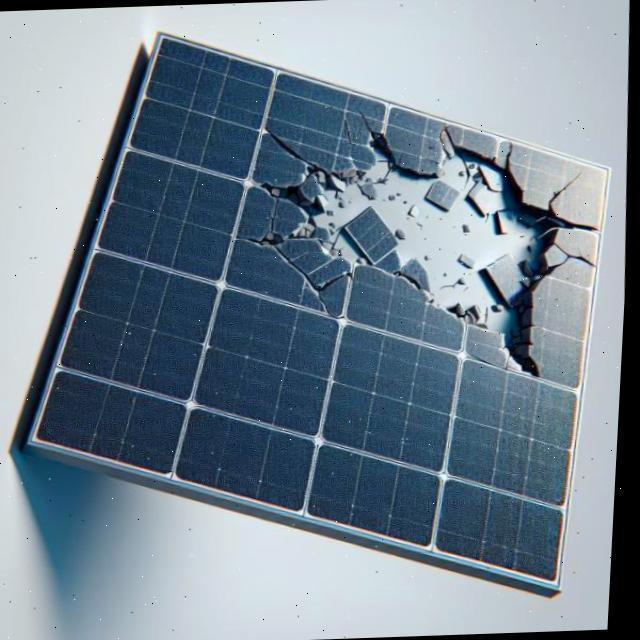Anomaly Solar Panel: (37, 35, 628, 586)
Structural Damage: (223, 59, 628, 406), (255, 245, 365, 324), (259, 125, 320, 173), (553, 243, 601, 270), (549, 171, 587, 205), (343, 119, 355, 146), (358, 108, 371, 132), (505, 143, 516, 170)
